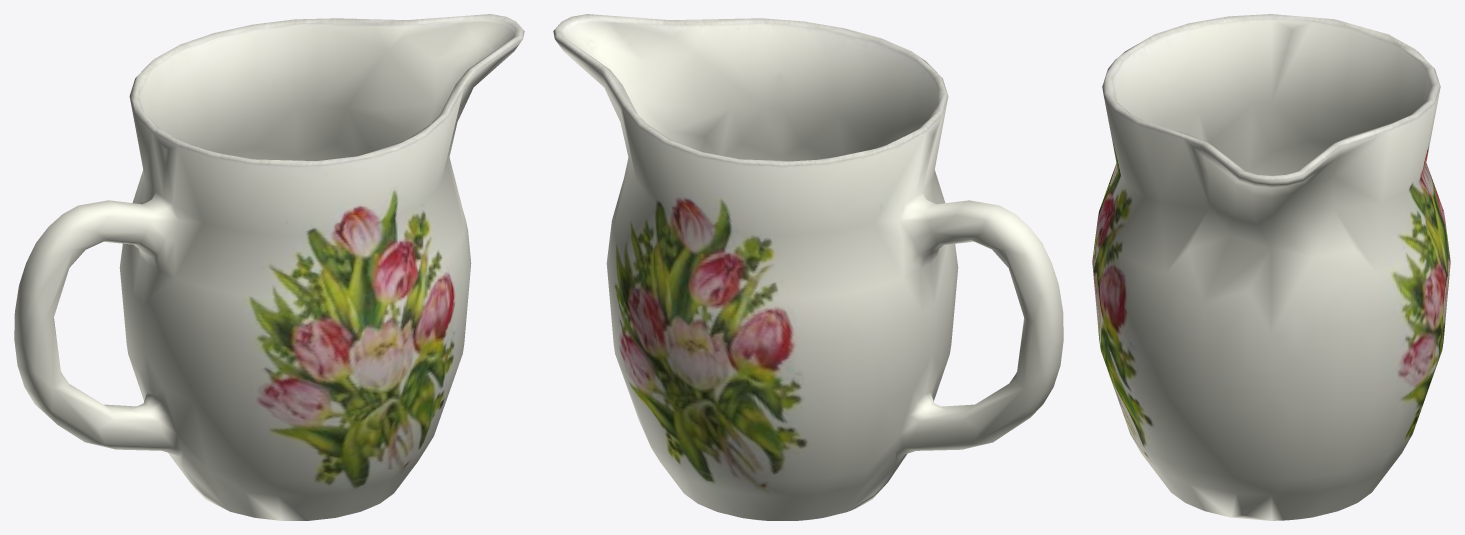
The model's file is jug_01.glb.
3 views of the same model, side by side, from view 1: azimuth 30°, elevation 25°; view 2: azimuth 150°, elevation 25°; view 3: azimuth 270°, elevation 25° (orthographic). The views are drawn at different scales.
Parts seen in each view (by area): view 1: jug_01; view 2: jug_01; view 3: jug_01.
Part boxes in pixels (left/top/right/bottom): jug_01: left=14, top=14, right=524, bottom=520; jug_01: left=553, top=14, right=1063, bottom=520; jug_01: left=1092, top=14, right=1450, bottom=520.
Bounding box in the file's own units: 0.275 × 0.2113 × 0.1675.
1 material, 1 textured.
